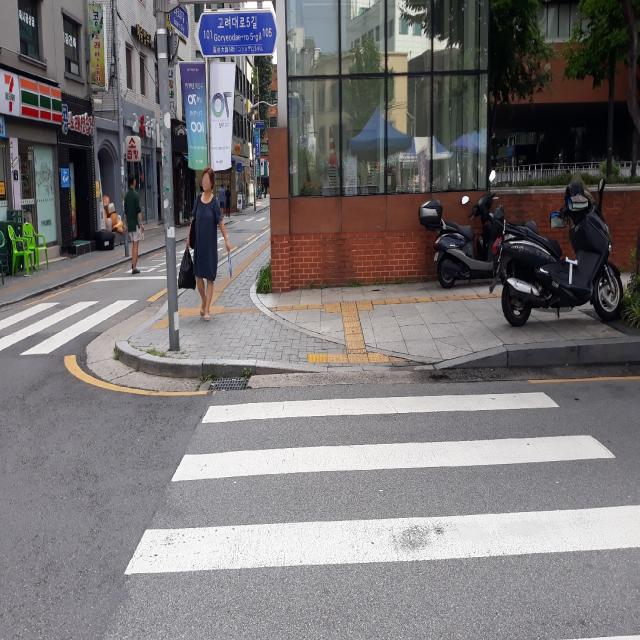횡단보도: (124, 392, 640, 640), (0, 274, 143, 364)
